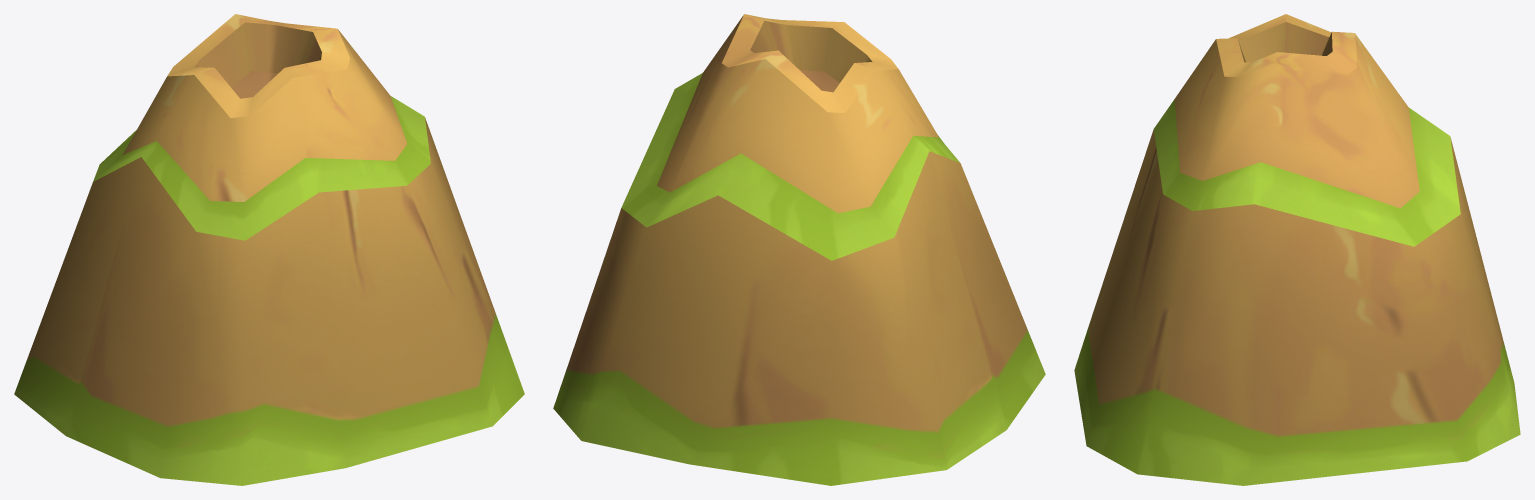
File: generic_model_mountain_small_volcano.fbx
3 views of the same model, side by side, from view 1: azimuth 30°, elevation 25°; view 2: azimuth 150°, elevation 25°; view 3: azimuth 270°, elevation 25° (orthographic).
Parts seen in each view (by area): view 1: generic_model_mountain_small_volcano; view 2: generic_model_mountain_small_volcano; view 3: generic_model_mountain_small_volcano.
Part boxes in pixels (x1,y1,x2,y2): generic_model_mountain_small_volcano: (14,14,524,485); generic_model_mountain_small_volcano: (553,14,1045,485); generic_model_mountain_small_volcano: (1074,14,1520,485).
Size of the model in its own units: 5.22 by 4.21 by 4.84.
